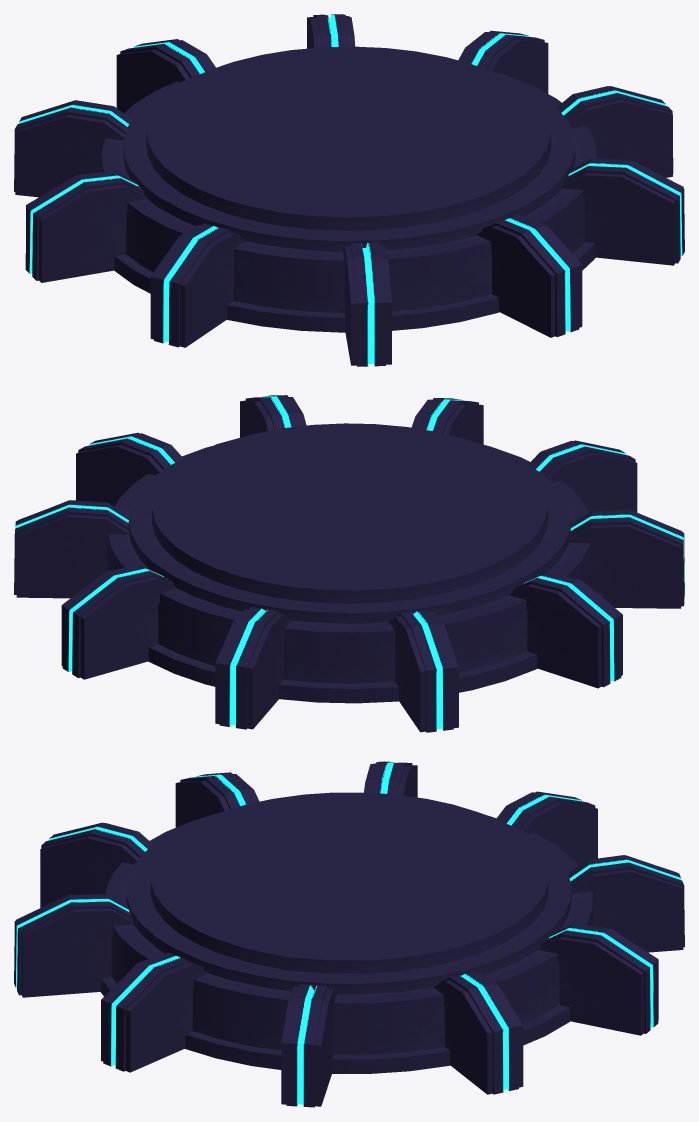
File: unity_table.fbx
3 views of the same model, one above another, from view 1: azimuth 30°, elevation 25°; view 2: azimuth 150°, elevation 25°; view 3: azimuth 270°, elevation 25° (orthographic). The views are drawn at different scales.
Visible parts, largest first — view 1: pasted__top_low3, pasted__middle_low2, pasted__leg_8_low2, pasted__leg_2_low2, pasted__leg_1_low2, pasted__leg_9_low2, pasted__leg_7_low2, pasted__leg_3_low2, pasted__bottom_low2, pasted__leg_10_low2, pasted__leg_6_low2, pasted__leg_4_low2 (+1 smaller); view 2: pasted__top_low3, pasted__middle_low2, pasted__leg_5_low2, pasted__leg_8_low2, pasted__leg_9_low2, pasted__leg_4_low2, pasted__leg_6_low2, pasted__leg_7_low2, pasted__bottom_low2, pasted__leg_10_low2, pasted__leg_3_low2, pasted__leg_1_low2 (+1 smaller); view 3: pasted__top_low3, pasted__middle_low2, pasted__leg_5_low2, pasted__leg_1_low2, pasted__leg_2_low2, pasted__leg_6_low2, pasted__leg_4_low2, pasted__leg_10_low2, pasted__leg_3_low2, pasted__bottom_low2, pasted__leg_7_low2, pasted__leg_9_low2 (+1 smaller).
Part boxes in pixels (bbox=[...]): pasted__top_low3: bbox=[146, 46, 551, 230]; pasted__middle_low2: bbox=[101, 70, 596, 312]; pasted__leg_8_low2: bbox=[25, 171, 147, 282]; pasted__leg_2_low2: bbox=[562, 158, 684, 265]; pasted__leg_1_low2: bbox=[477, 215, 582, 337]; pasted__leg_9_low2: bbox=[150, 223, 245, 347]; pasted__leg_7_low2: bbox=[14, 100, 131, 197]; pasted__leg_3_low2: bbox=[556, 86, 673, 177]; pasted__bottom_low2: bbox=[114, 242, 595, 332]; pasted__leg_10_low2: bbox=[343, 242, 391, 366]; pasted__leg_6_low2: bbox=[116, 39, 215, 113]; pasted__leg_4_low2: bbox=[458, 30, 548, 93]; pasted__top_low3: bbox=[151, 423, 547, 603]; pasted__middle_low2: bbox=[106, 443, 591, 683]; pasted__leg_5_low2: bbox=[61, 564, 177, 679]; pasted__leg_8_low2: bbox=[509, 572, 622, 688]; pasted__leg_9_low2: bbox=[569, 509, 684, 608]; pasted__leg_4_low2: bbox=[14, 500, 129, 598]; pasted__leg_6_low2: bbox=[215, 607, 291, 729]; pasted__leg_7_low2: bbox=[389, 610, 458, 732]; pasted__bottom_low2: bbox=[106, 568, 603, 703]; pasted__leg_10_low2: bbox=[528, 440, 637, 512]; pasted__leg_3_low2: bbox=[76, 432, 183, 506]; pasted__leg_1_low2: bbox=[411, 397, 483, 444]; pasted__top_low3: bbox=[150, 792, 548, 973]; pasted__middle_low2: bbox=[105, 813, 593, 1054]; pasted__leg_5_low2: bbox=[538, 923, 658, 1035]; pasted__leg_1_low2: bbox=[14, 894, 133, 997]; pasted__leg_2_low2: bbox=[101, 952, 208, 1072]; pasted__leg_6_low2: bbox=[568, 855, 684, 952]; pasted__leg_4_low2: bbox=[434, 971, 523, 1094]; pasted__leg_10_low2: bbox=[40, 822, 153, 907]; pasted__leg_3_low2: bbox=[281, 984, 336, 1107]; pasted__bottom_low2: bbox=[100, 925, 594, 1073]; pasted__leg_7_low2: bbox=[496, 791, 597, 865]; pasted__leg_9_low2: bbox=[175, 772, 259, 827].
Bounding box in the file's own units: 9.05 × 1.32 × 9.03.
Materials: 1 (1 with a texture image).
